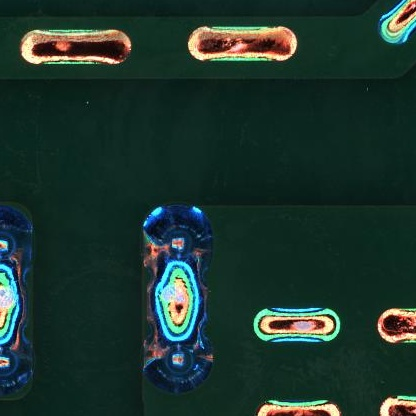spot: (139, 204, 215, 276), (140, 331, 216, 393), (1, 204, 34, 271), (1, 343, 34, 399)
